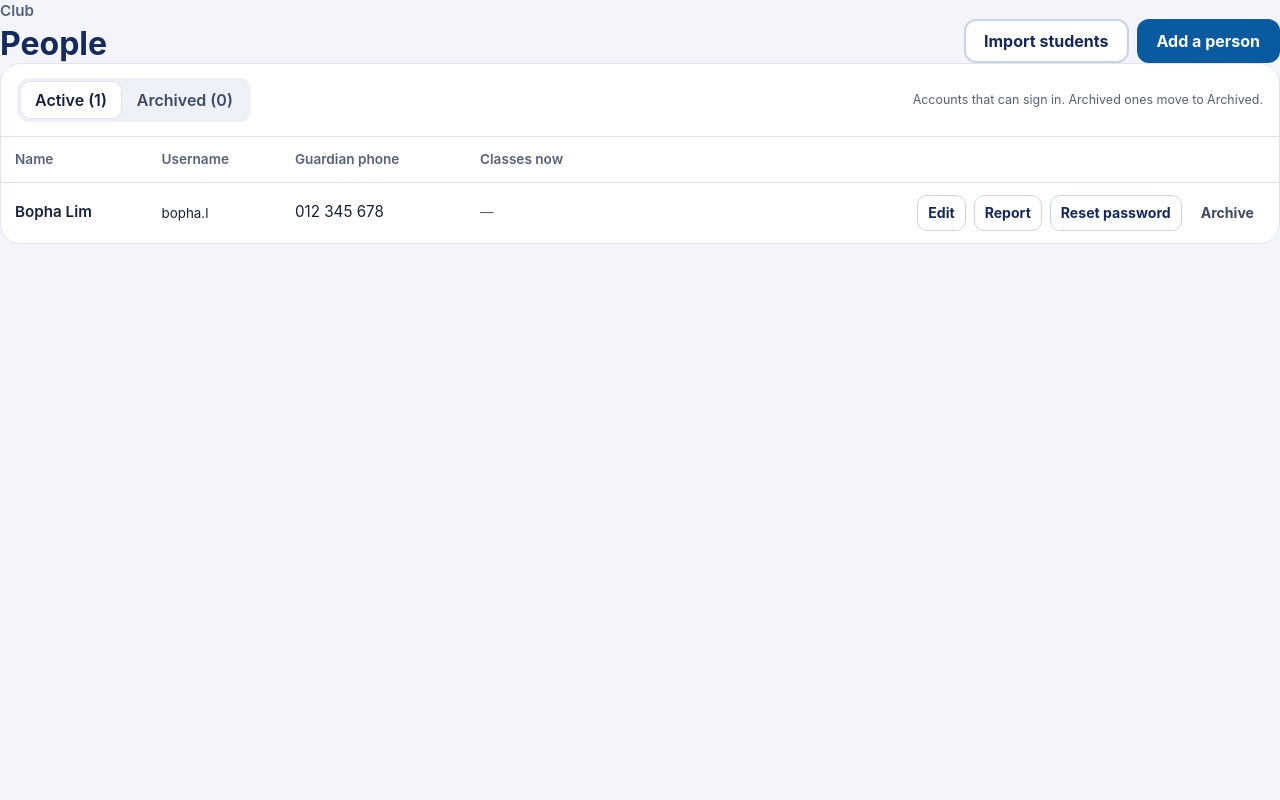
editing a person › opens with a student's details and saves corrections
Step 1. Click the button with aria-label "Edit Bopha Lim" → (942, 213), box 917,195 -> 966,231
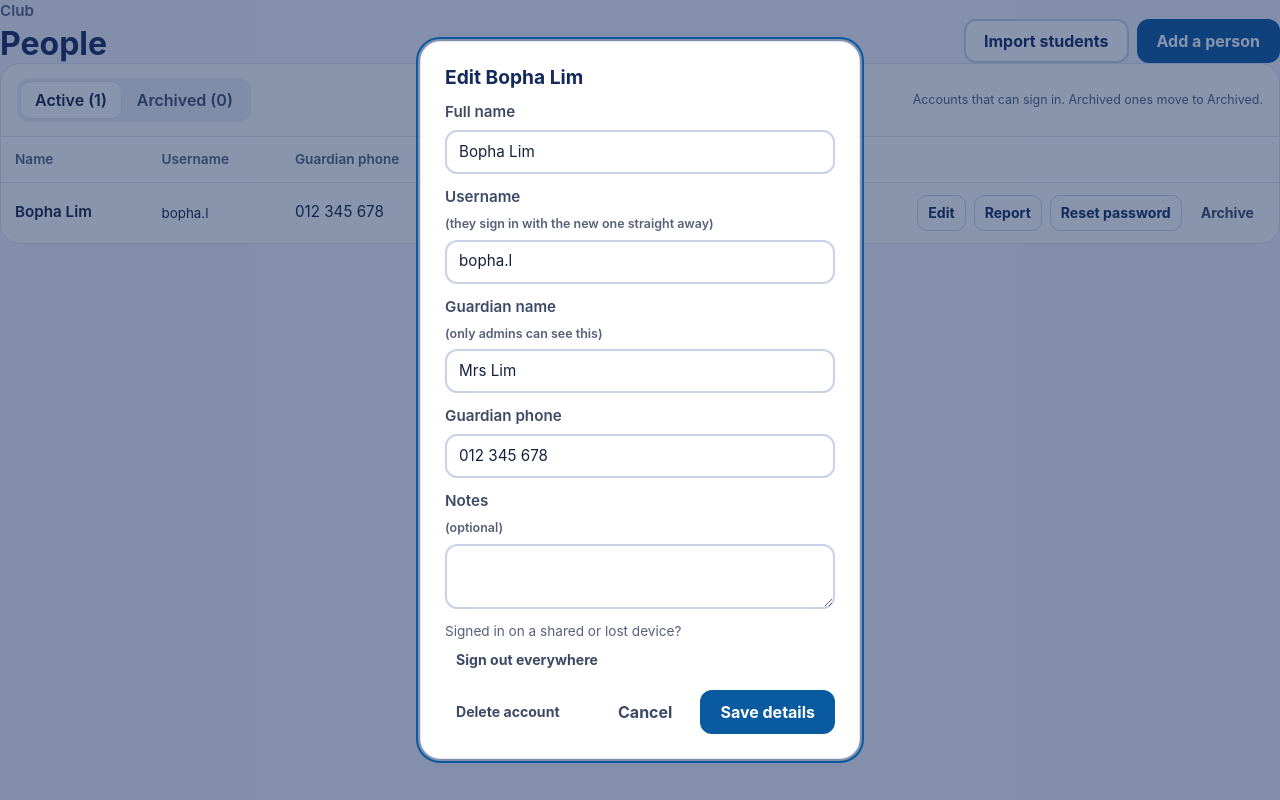
Step 2. Replace the text in the field labelled "Guardian phone" with "012 999 000" → (640, 456), box 445,434 -> 835,478
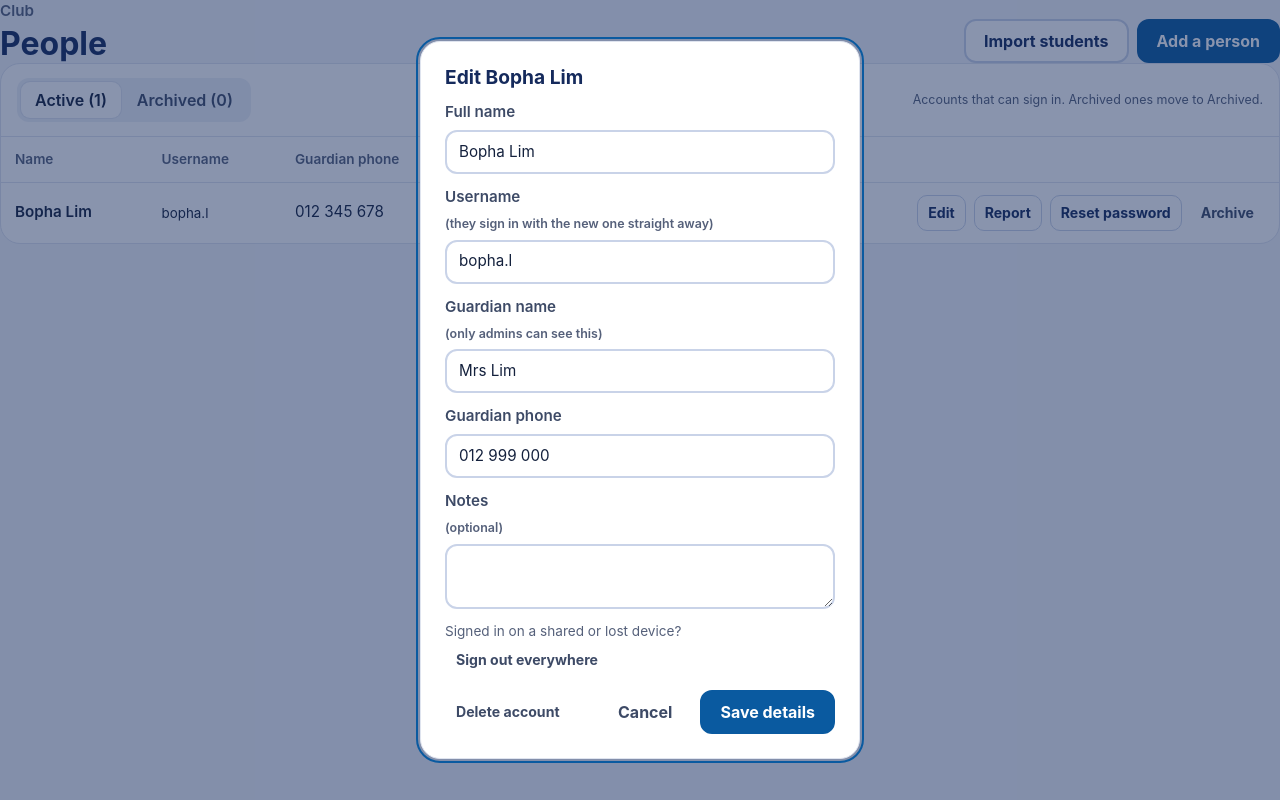
Step 3. Click the button "Save details" → (768, 712), box 700,690 -> 835,734
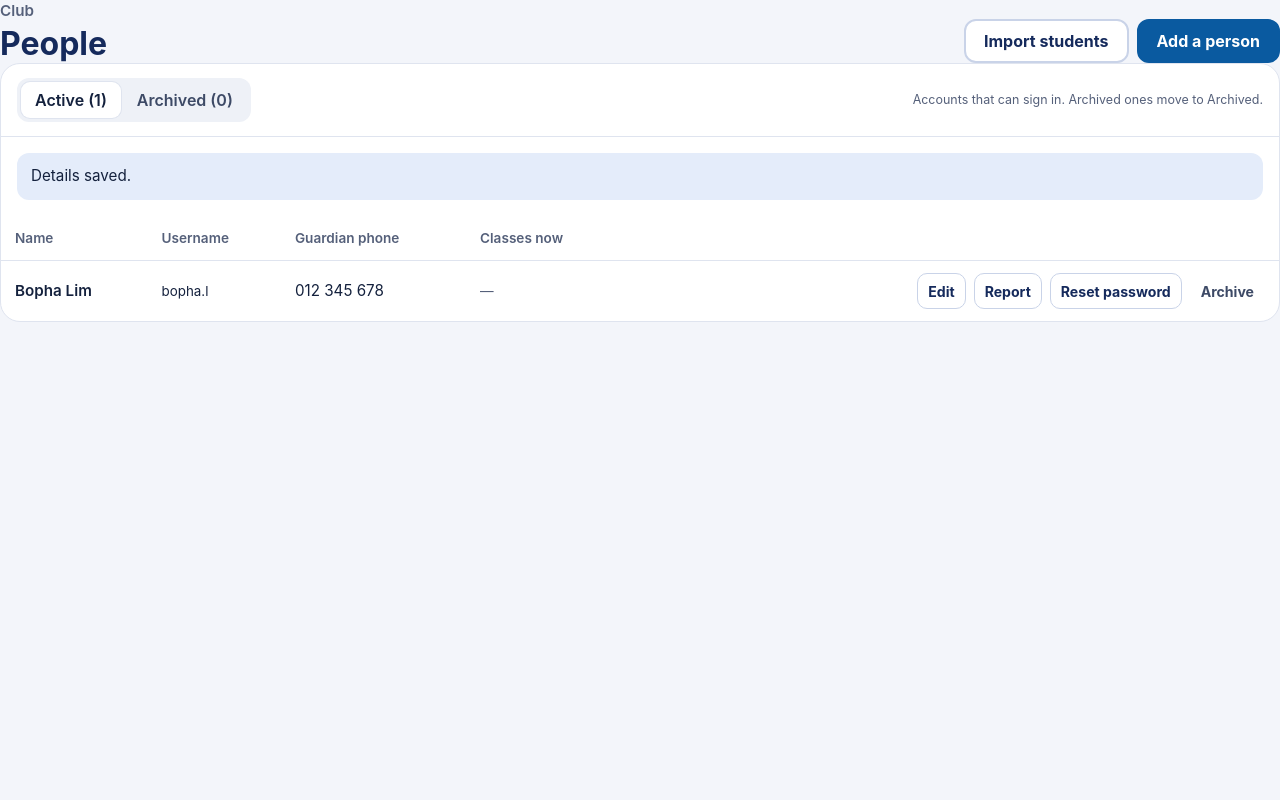
Expected: the message reads "Details saved.", 31,166 -> 131,185
Expected: the dialog is gone
